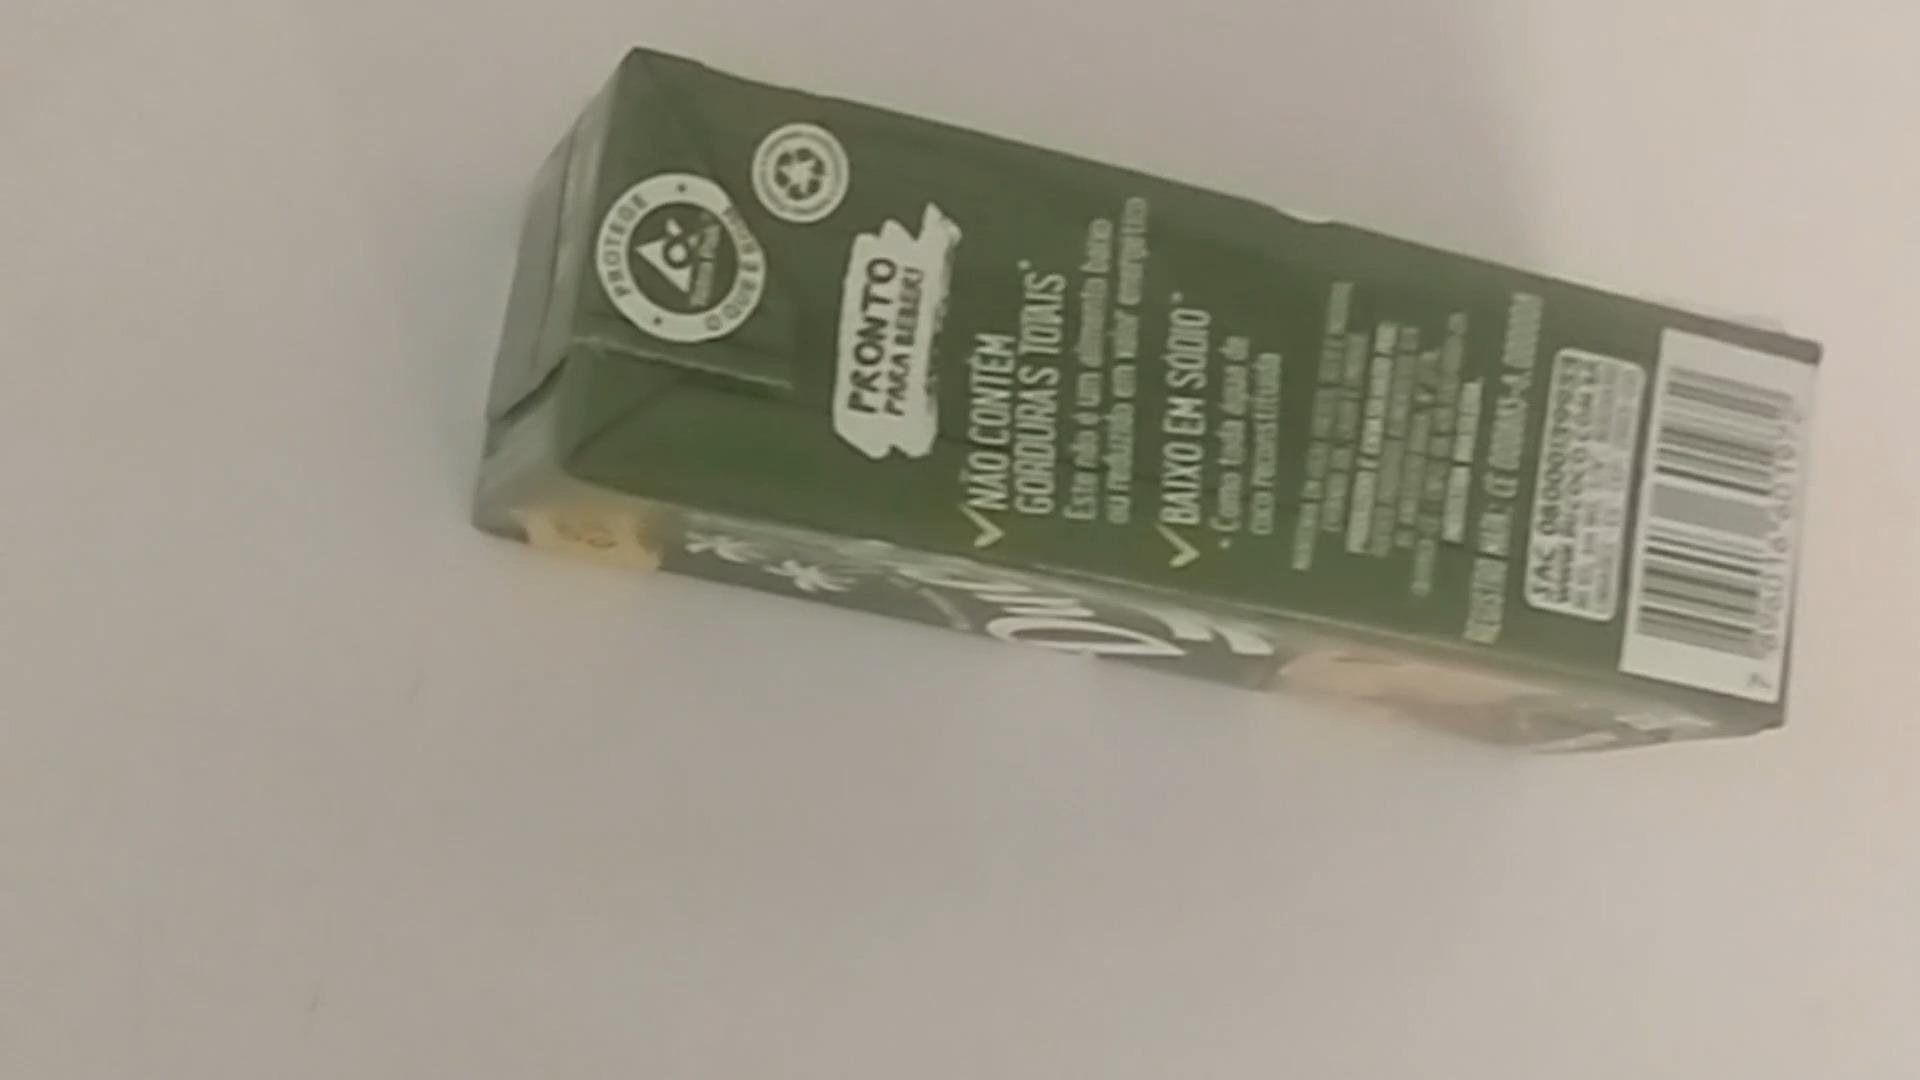coco: (492, 45, 1812, 753)
